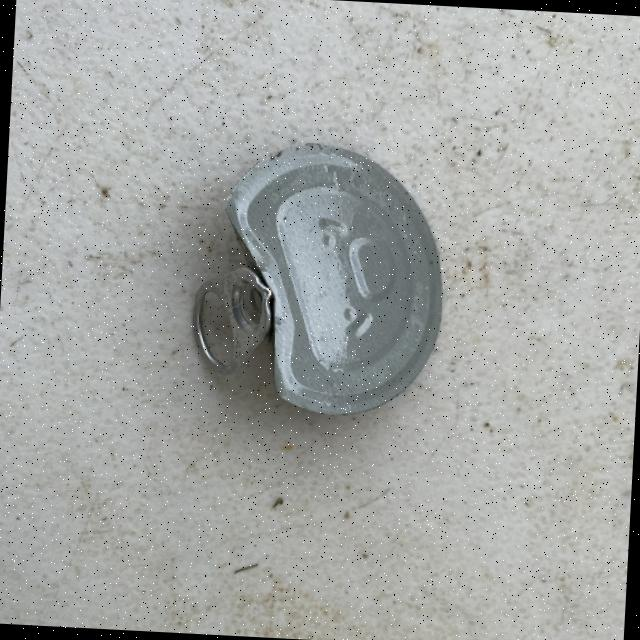metal: (187, 136, 451, 420)
